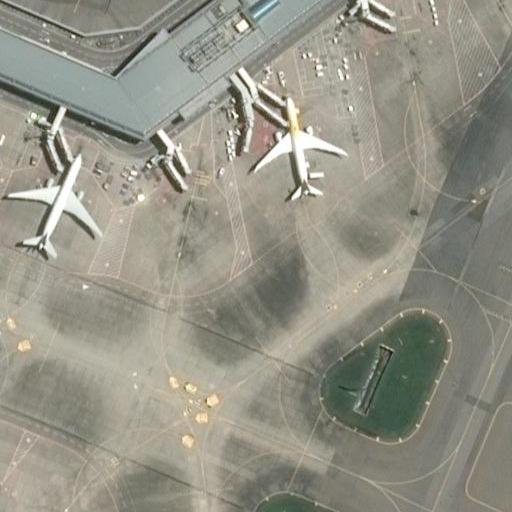Aircraft: (5, 147, 100, 257), (243, 96, 343, 199)
